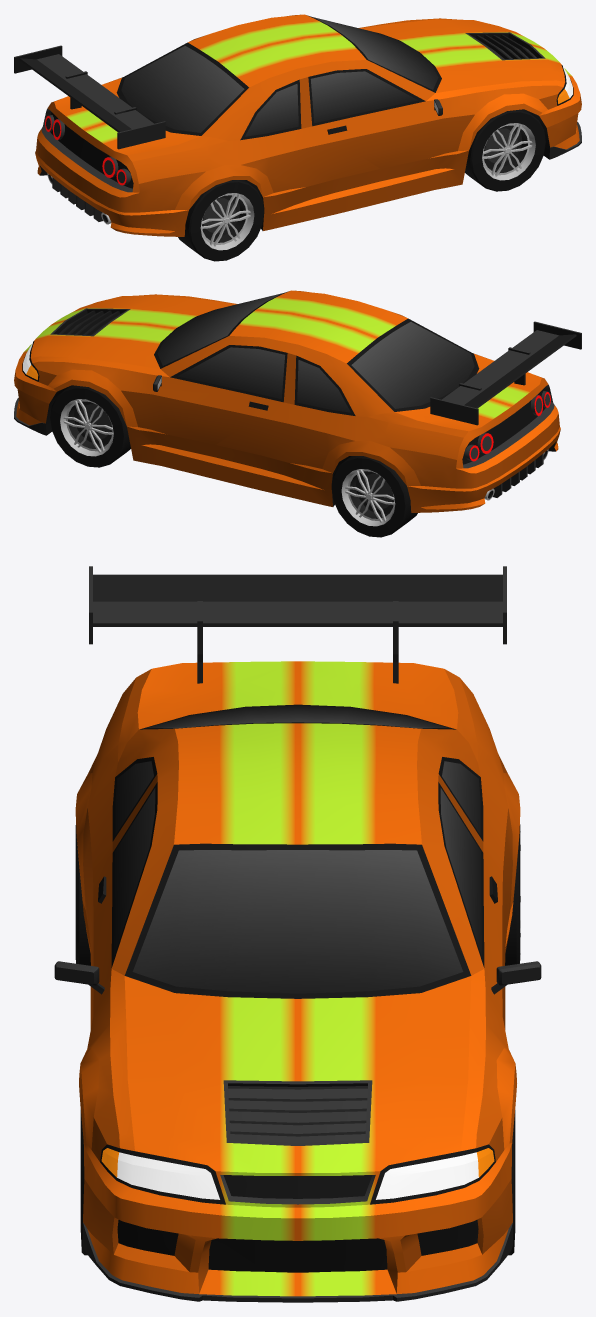
File: RaceCar_085.glb
3 views of the same model, one above another, from view 1: azimuth 30°, elevation 25°; view 2: azimuth 150°, elevation 25°; view 3: azimuth 270°, elevation 25° (orthographic). The views are drawn at different scales.
Visible parts, largest first — view 1: RaceCar_085, wheel_3_RaceCar_085_Wheel_2R, wheel_1_RaceCar_085_Wheel_1R; view 2: RaceCar_085, wheel_2_RaceCar_085_Wheel_2L, wheel_0_RaceCar_085_Wheel_1L; view 3: RaceCar_085, wheel_2_RaceCar_085_Wheel_2L, wheel_3_RaceCar_085_Wheel_2R.
Part boxes in pixels (x1,y1,x2,y2): RaceCar_085: (14,14,581,236); wheel_3_RaceCar_085_Wheel_2R: (178,180,264,261); wheel_1_RaceCar_085_Wheel_1R: (465,109,545,191); RaceCar_085: (14,290,581,512); wheel_2_RaceCar_085_Wheel_2L: (331,456,417,537); wheel_0_RaceCar_085_Wheel_1L: (50,385,130,467); RaceCar_085: (54,566,541,1302); wheel_2_RaceCar_085_Wheel_2L: (505,824,520,965); wheel_3_RaceCar_085_Wheel_2R: (75,825,90,965).
Size of the model in its own units: 4.51 by 1.34 by 1.94.
Materials: 3 (3 with a texture image).
